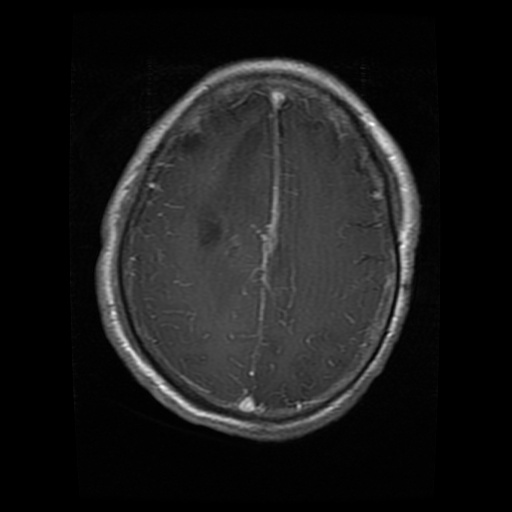glioma: (192, 206, 227, 246)
